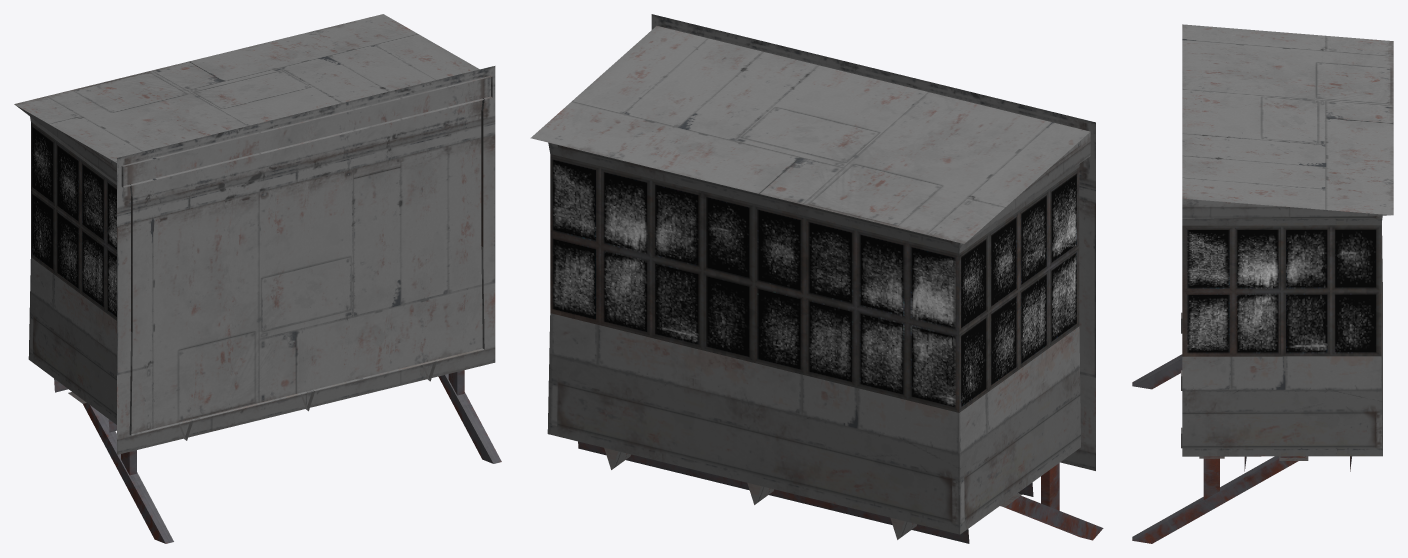
The model's file is ARC0910214.fbx.
3 renders of one model, left to right at view 1: azimuth 30°, elevation 25°; view 2: azimuth 150°, elevation 25°; view 3: azimuth 270°, elevation 25°, orthographic. The views are drawn at different scales.
Visible parts, largest first — view 1: smARC0910214; view 2: smARC0910214; view 3: smARC0910214.
Boxes of the visible parts, left/top/right/bottom form: smARC0910214: left=14, top=14, right=501, bottom=543; smARC0910214: left=530, top=14, right=1103, bottom=543; smARC0910214: left=1132, top=24, right=1393, bottom=543.
Bounding box in the file's own units: 400 × 378 × 248.
Materials: 1 (1 with a texture image).
